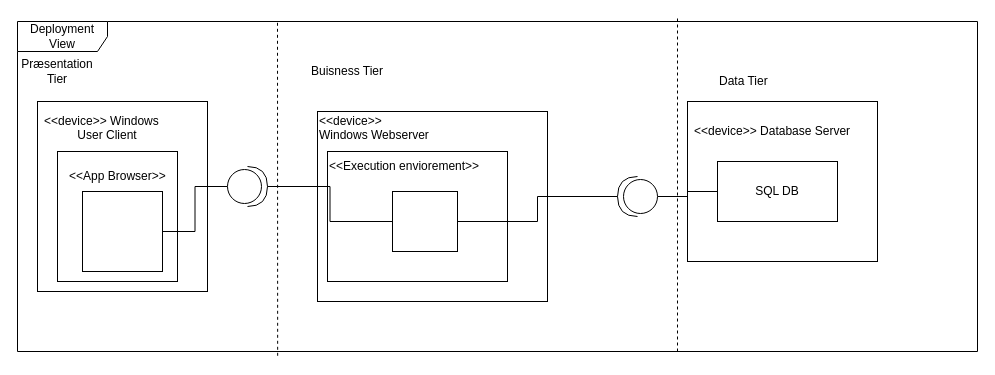
This 995x375 diagram has some shape labels left out. The shapes that lost their labels are listed below. From the top down, each one's centre as x and y in pixels, then its label:
pixel 122 231: CSS
pixel 425 221: CarnGo.sln C#
